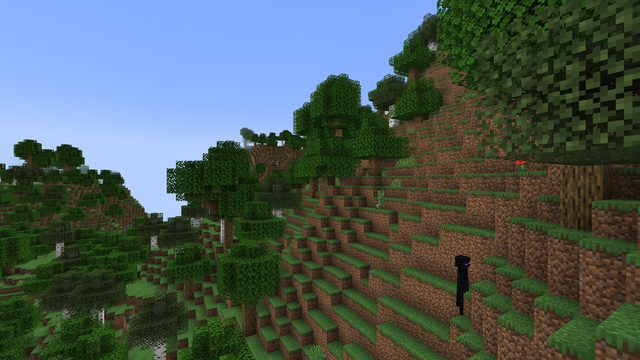creepers: (376, 189, 385, 208)
endermens: (453, 252, 471, 317)
